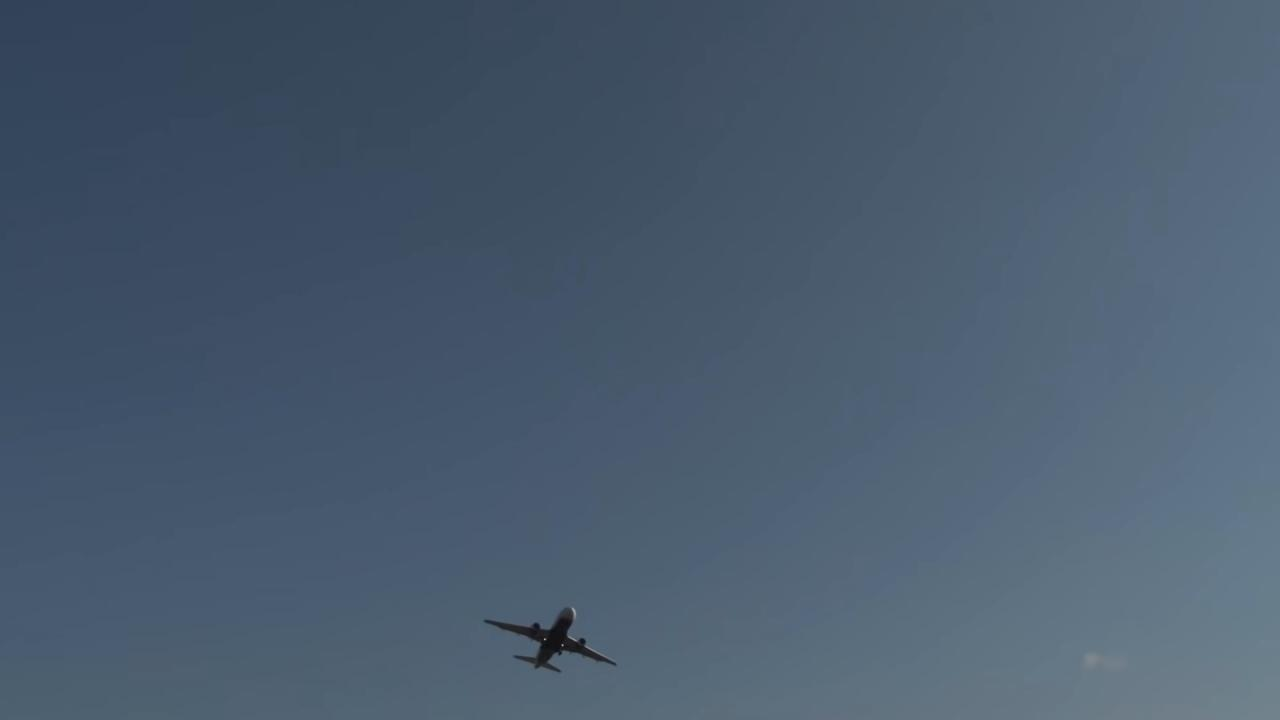Airplane: (474, 596, 627, 686)
